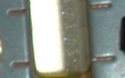border: (89, 55, 117, 64), (8, 60, 34, 68), (87, 2, 113, 10), (6, 9, 32, 16)
liquidlevel: (31, 68, 90, 78)
